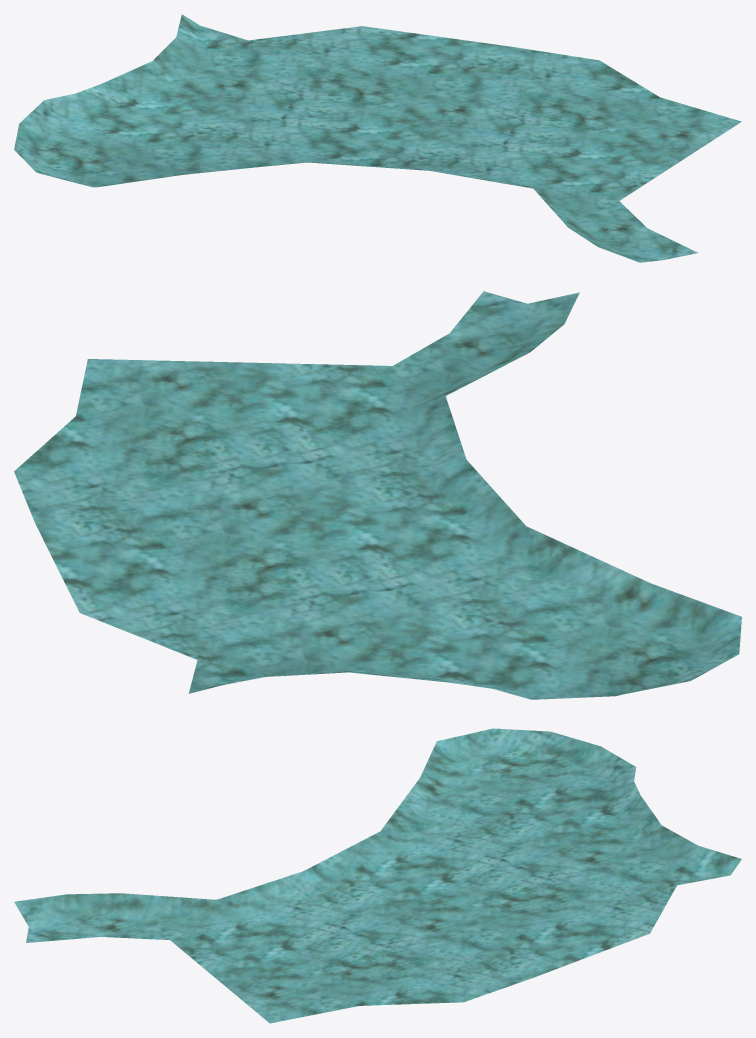
The model's file is EKH_CAVERNS_PS_CA_SMALL_LAKE_FLOOR383.fbx.
3 renders of one model, top to bottom at view 1: azimuth 30°, elevation 25°; view 2: azimuth 150°, elevation 25°; view 3: azimuth 270°, elevation 25°, orthographic. The views are drawn at different scales.
Parts seen in each view (by area): view 1: EKH_CAVERNS_PS_CA_SMALL_LAKE_FLOOR383; view 2: EKH_CAVERNS_PS_CA_SMALL_LAKE_FLOOR383; view 3: EKH_CAVERNS_PS_CA_SMALL_LAKE_FLOOR383.
Part boxes in pixels (bbox=[...]): EKH_CAVERNS_PS_CA_SMALL_LAKE_FLOOR383: bbox=[14, 14, 741, 262]; EKH_CAVERNS_PS_CA_SMALL_LAKE_FLOOR383: bbox=[14, 291, 741, 699]; EKH_CAVERNS_PS_CA_SMALL_LAKE_FLOOR383: bbox=[14, 728, 741, 1023].
Bounding box in the file's own units: 149089 × 2500 × 161044.
1 material, 1 textured.
